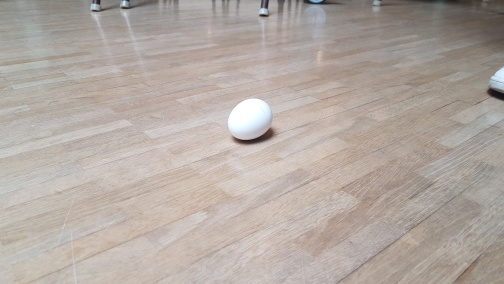egg: (226, 96, 272, 142)
